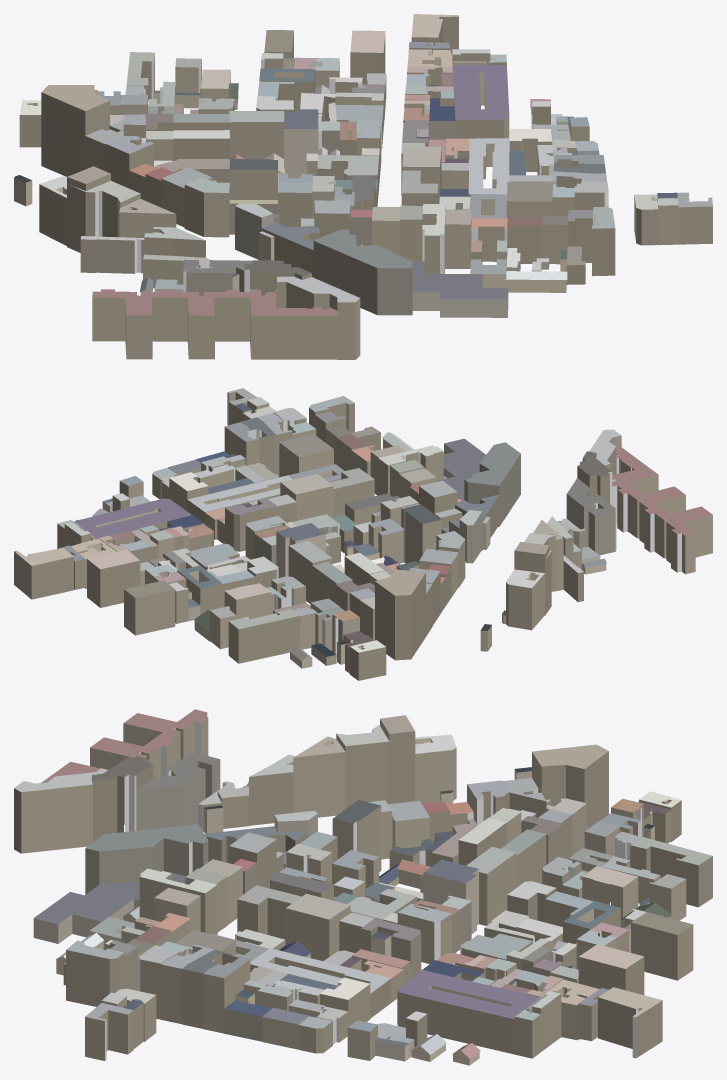
3 renders of one model, top to bottom at view 1: azimuth 30°, elevation 25°; view 2: azimuth 150°, elevation 25°; view 3: azimuth 270°, elevation 25°, orthographic. The views are drawn at different scales.
Parts seen in each view (by area): view 1: tuile; view 2: tuile; view 3: tuile.
Part boxes in pixels (x1,y1,x2,y2): tuile: (14, 14, 712, 359); tuile: (14, 388, 712, 680); tuile: (14, 709, 712, 1065).
Size of the model in its own units: 296 by 39.89 by 285.
